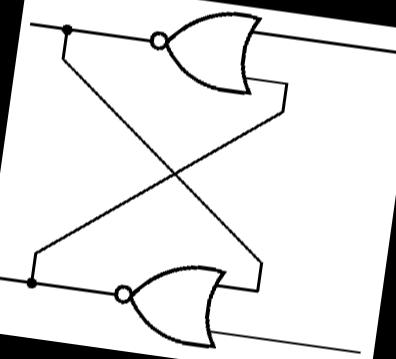nor: (100, 242, 234, 356), (135, 0, 266, 101)
